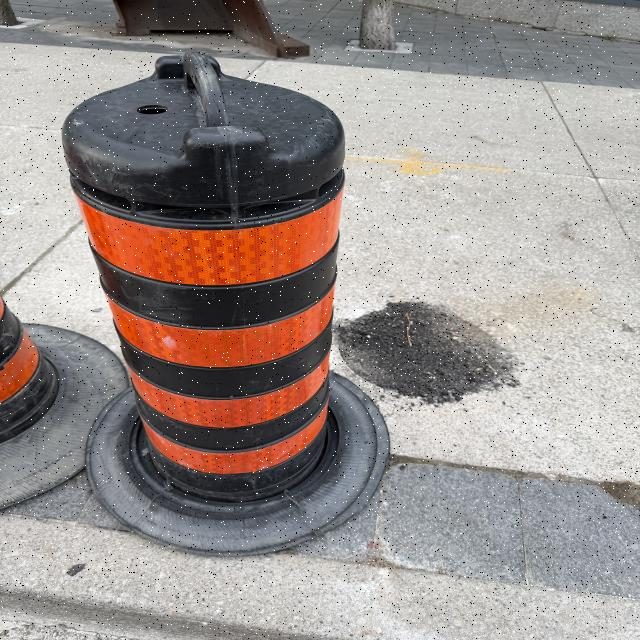Teraffic Barrel: (63, 52, 388, 554), (0, 299, 128, 506)
